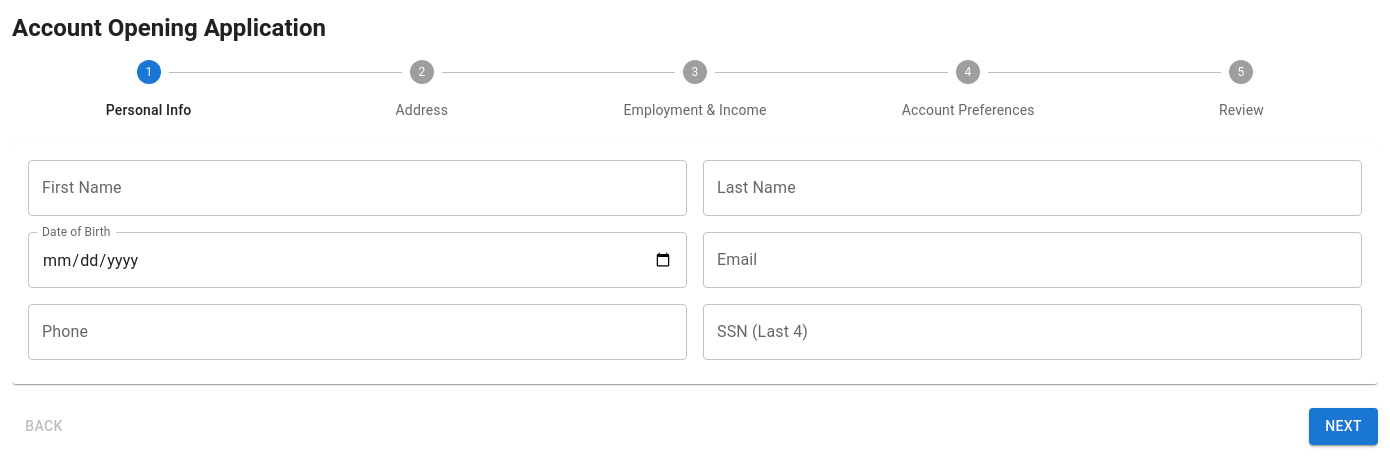
Test: ApplicationForm › Step navigation › step 2 shows address fields
Type "Jane" into the field labelled "First Name".
click(358, 188); type("Jane")  # box x1=28 y1=160 x2=687 y2=216
Type "Doe" into the field labelled "Last Name".
click(1032, 188); type("Doe")  # box x1=703 y1=160 x2=1362 y2=216
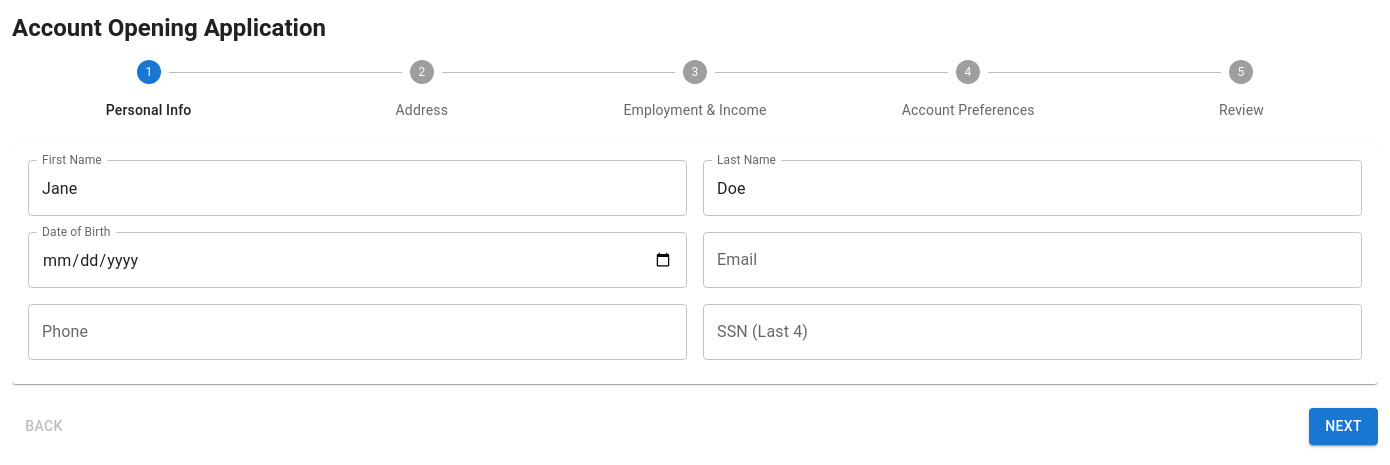
Type "1990-01-15" into the date field labelled "Date of Birth".
click(358, 260); type("1990-01-15")  # box x1=28 y1=232 x2=687 y2=288
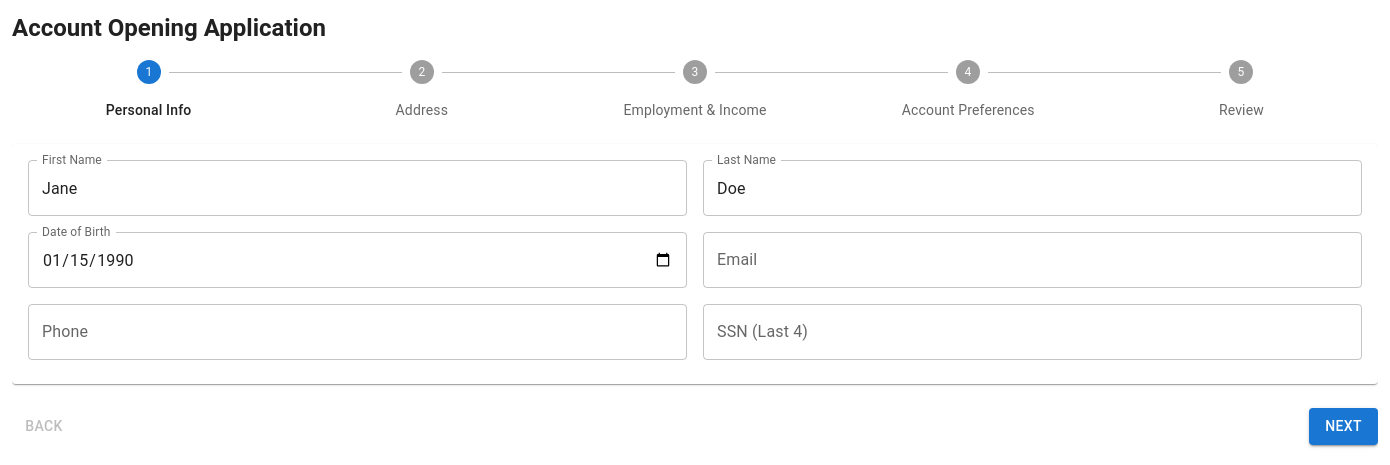
Type "jane@example.com" into the field labelled "Email".
click(1032, 260); type("jane@example.com")  # box x1=703 y1=232 x2=1362 y2=288
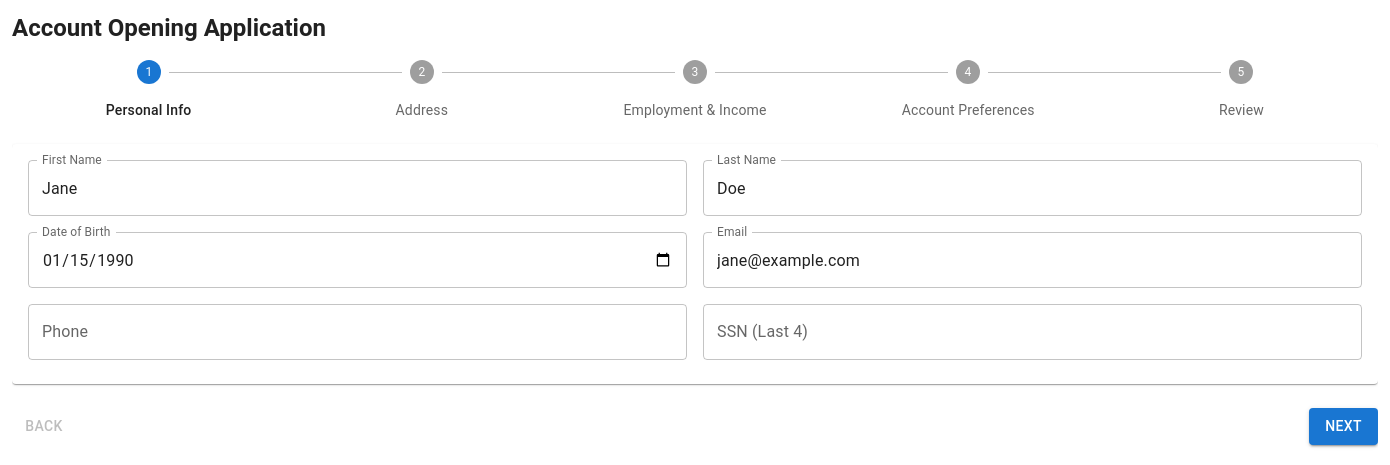
Type "555-0100" into the field labelled "Phone".
click(358, 332); type("555-0100")  # box x1=28 y1=304 x2=687 y2=360
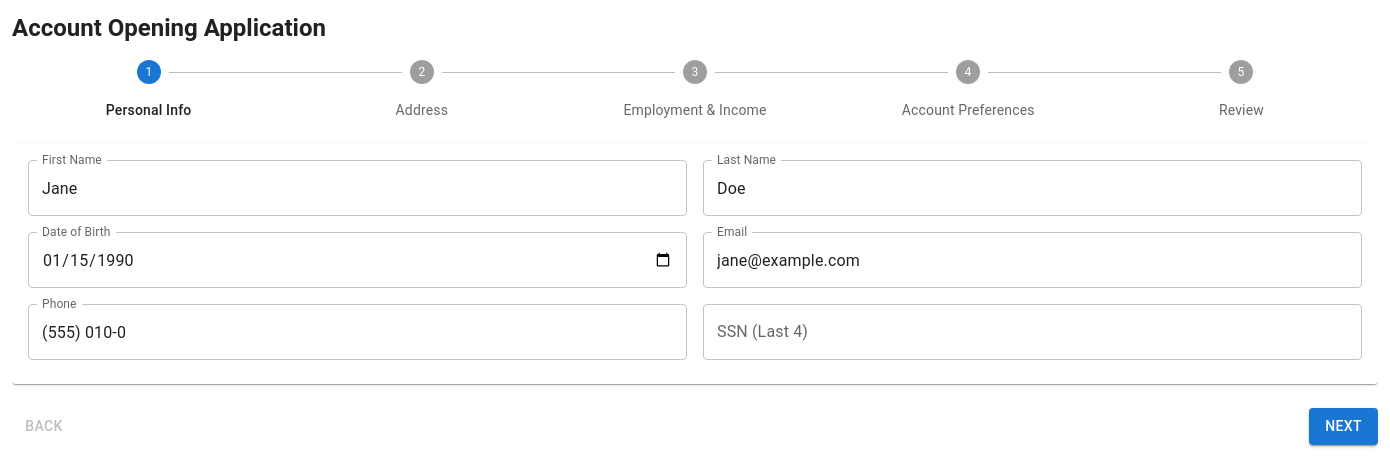
Type "1234" into the field labelled "SSN (Last 4)".
click(1032, 332); type("1234")  # box x1=703 y1=304 x2=1362 y2=360
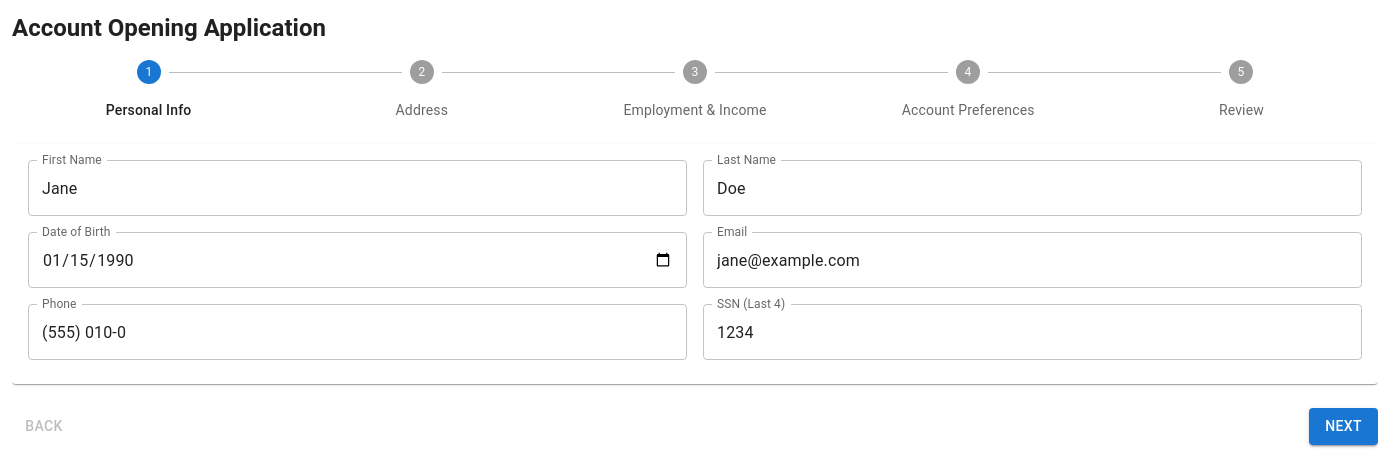
Click the button "Next".
click(1344, 426)  # box x1=1309 y1=408 x2=1378 y2=444
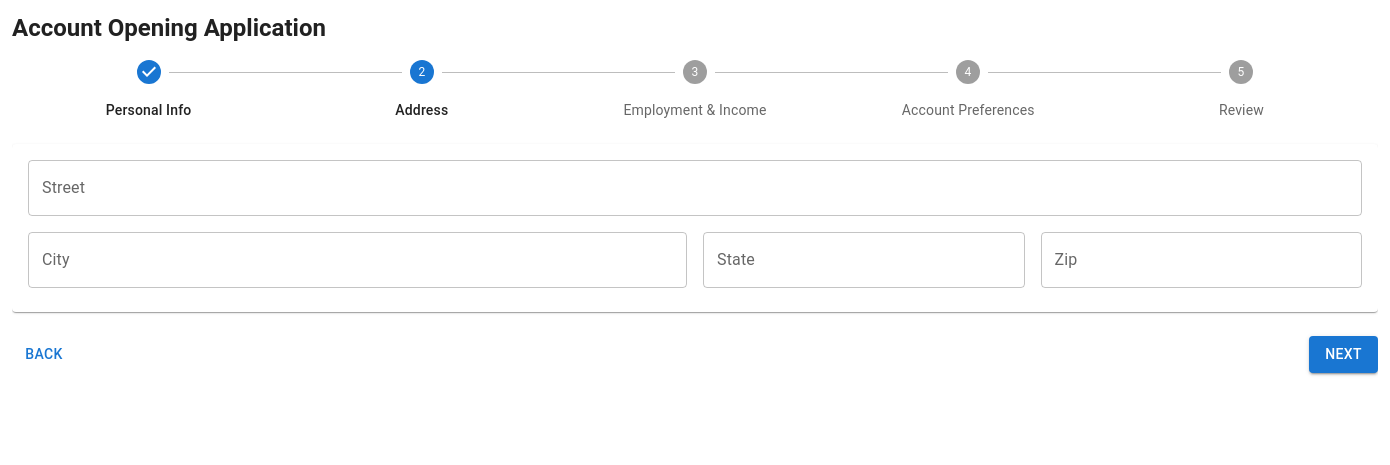
Check: the field labelled "Street" is shown, box x1=28 y1=160 x2=1362 y2=216
Check: the field labelled "City" is shown, box x1=28 y1=232 x2=687 y2=288
Check: the field labelled "State" is shown, box x1=703 y1=232 x2=1024 y2=288
